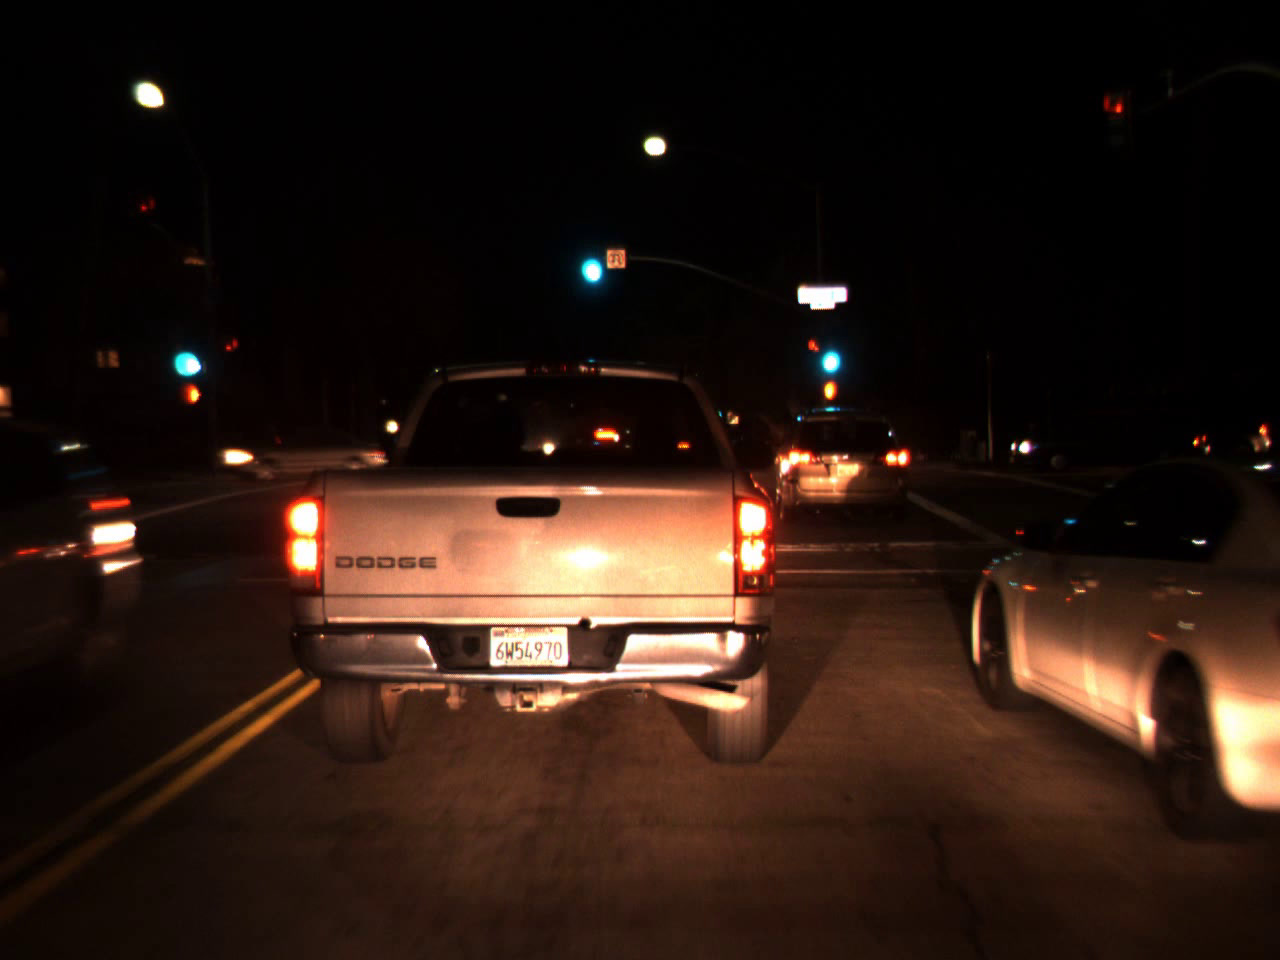go: (572, 227, 608, 293), (165, 324, 202, 381), (813, 322, 845, 382)
